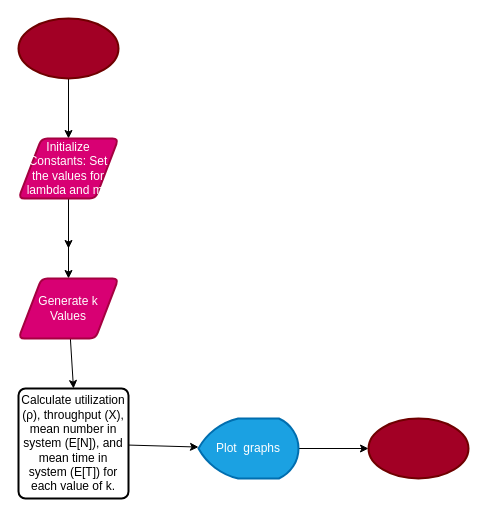
Some shapes in this 486 by 516 pixel diagram are drawn without their labels. The box of each missing label's shape, as (x1, y1, x2, y2) in pixels:
End: (367, 417, 469, 479)
Start: (17, 17, 119, 79)
